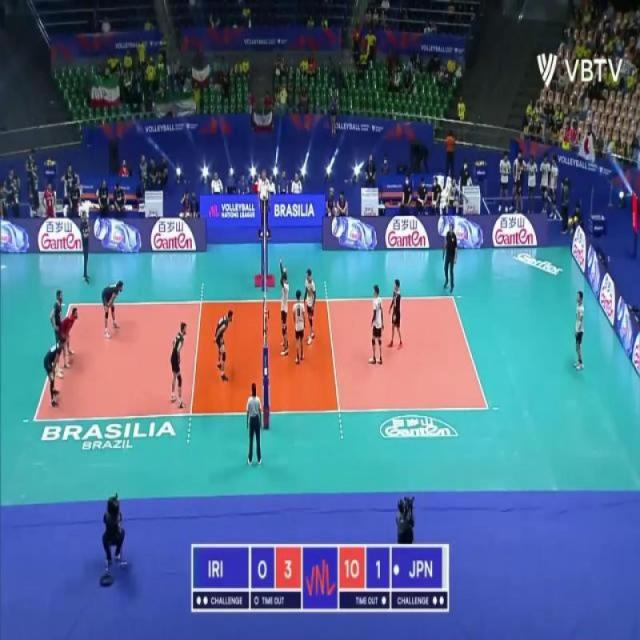volleyball: (475, 159, 485, 167), (567, 217, 574, 228), (46, 158, 55, 166), (574, 214, 578, 223)
